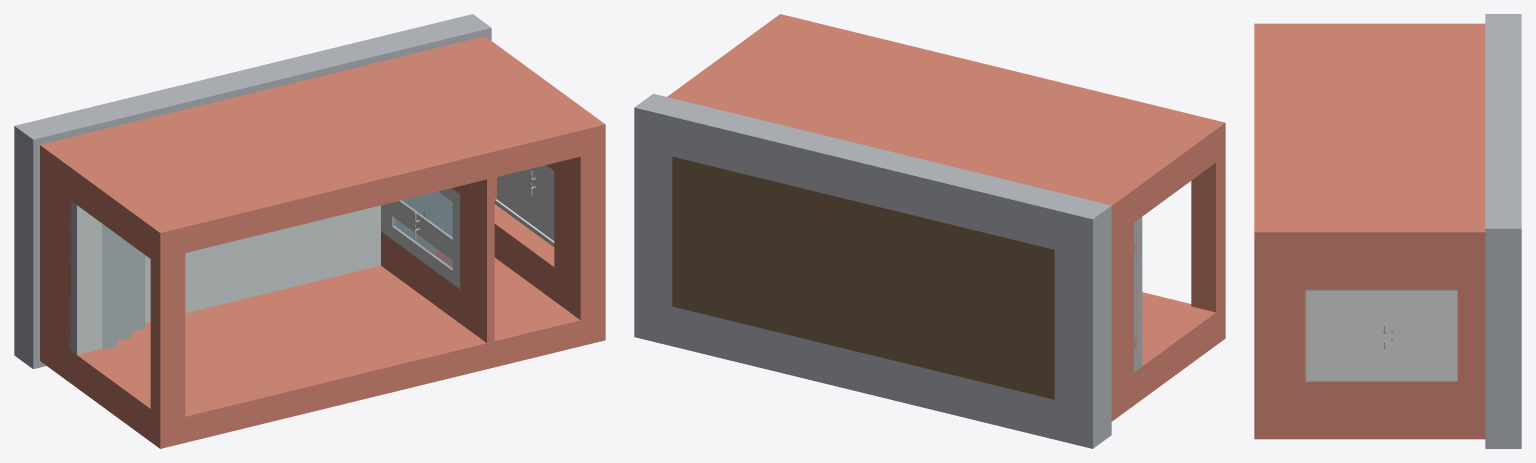
The model's file is Ved19lk7.obj.
3 renders of one model, left to right at view 1: azimuth 30°, elevation 25°; view 2: azimuth 150°, elevation 25°; view 3: azimuth 270°, elevation 25°, orthographic. The views are drawn at different scales.
Visible parts, largest first — view 1: Стены__Базовая стена__Кирпичная кладка 760__490594, Стены__Базовая стена__Кирпичная кладка 760__490734, Перекрытия__Перекрытие__Фундамент__491578, Перекрытия__Перекрытие__Лестничная площадка ЛК № 7__491665, Стены__Базовая стена__Кирпичная кладка 760__490809, Стены__Базовая стена__Кирпичная кладка 760__490665, Стены__Базовая стена__ADSK_Внутренняя_Кирпич_120__492265, Двери__AC_Дверь_Двупольная_Деревянная__1360х2080h Н О Л__492395:, Перекрытия__Перекрытие__Лестничная площадка ЛК № 7__492960, Проступи/подступенки__Марш(Внутренний)__492533, Двери__AC_Дверь_Двупольная_Деревянная__1360х2080h В__492418:5, Двери__AC_Дверь_Двупольная_Деревянная__1360х2080h В__492418:4; view 2: Перекрытия__Перекрытие__Фундамент__491578, Перекрытия__Перекрытие__ADSK_Грунт__491441, Стены__Базовая стена__Кирпичная кладка 760__490594, Стены__Базовая стена__Кирпичная кладка 760__490809, Стены__Базовая стена__Кирпичная кладка 760__490734, Перекрытия__Перекрытие__Лестничная площадка ЛК № 7__492960; view 3: Стены__Базовая стена__Кирпичная кладка 760__490594, Стены__Базовая стена__Кирпичная кладка 760__490665, Перекрытия__Перекрытие__Фундамент__491578, Двери__AC_Дверь_Двупольная_Деревянная__1360х2080h В__492418:5, Двери__AC_Дверь_Двупольная_Деревянная__1360х2080h В__492418:4, Двери__AC_Дверь_Двупольная_Деревянная__1360х2080h В__492418:7, Двери__AC_Дверь_Двупольная_Деревянная__1360х2080h В__492418:6.
Part boxes in pixels (box(x1,y1,x2,y2)): Стены__Базовая стена__Кирпичная кладка 760__490594: box(40, 36, 605, 258); Стены__Базовая стена__Кирпичная кладка 760__490734: box(40, 251, 580, 448); Перекрытия__Перекрытие__Фундамент__491578: box(14, 14, 491, 369); Перекрытия__Перекрытие__Лестничная площадка ЛК № 7__491665: box(145, 191, 452, 322); Стены__Базовая стена__Кирпичная кладка 760__490809: box(40, 171, 185, 422); Стены__Базовая стена__Кирпичная кладка 760__490665: box(494, 150, 605, 346); Стены__Базовая стена__ADSK_Внутренняя_Кирпич_120__492265: box(381, 177, 494, 342); Двери__AC_Дверь_Двупольная_Деревянная__1360х2080h Н О Л__492395:: box(381, 188, 460, 289); Перекрытия__Перекрытие__Лестничная площадка ЛК № 7__492960: box(68, 201, 101, 354); Проступи/подступенки__Марш(Внутренний)__492533: box(102, 223, 144, 349); Двери__AC_Дверь_Двупольная_Деревянная__1360х2080h В__492418:5: box(497, 171, 554, 240); Двери__AC_Дверь_Двупольная_Деревянная__1360х2080h В__492418:4: box(519, 165, 554, 196); Перекрытия__Перекрытие__Фундамент__491578: box(634, 93, 1111, 448); Перекрытия__Перекрытие__ADSK_Грунт__491441: box(672, 156, 1054, 399); Стены__Базовая стена__Кирпичная кладка 760__490594: box(667, 14, 1225, 231); Стены__Базовая стена__Кирпичная кладка 760__490809: box(1111, 149, 1225, 395); Стены__Базовая стена__Кирпичная кладка 760__490734: box(1111, 292, 1225, 421); Перекрытия__Перекрытие__Лестничная площадка ЛК № 7__492960: box(1134, 217, 1142, 372); Стены__Базовая стена__Кирпичная кладка 760__490594: box(1254, 23, 1485, 257); Стены__Базовая стена__Кирпичная кладка 760__490665: box(1254, 257, 1485, 439); Перекрытия__Перекрытие__Фундамент__491578: box(1485, 14, 1521, 448); Двери__AC_Дверь_Двупольная_Деревянная__1360х2080h В__492418:5: box(1308, 335, 1457, 378); Двери__AC_Дверь_Двупольная_Деревянная__1360х2080h В__492418:4: box(1308, 293, 1457, 335); Двери__AC_Дверь_Двупольная_Деревянная__1360х2080h В__492418:7: box(1306, 291, 1457, 380); Двери__AC_Дверь_Двупольная_Деревянная__1360х2080h В__492418:6: box(1305, 289, 1457, 381).
Size of the model in its own units: 6990 by 3345 by 3680.
